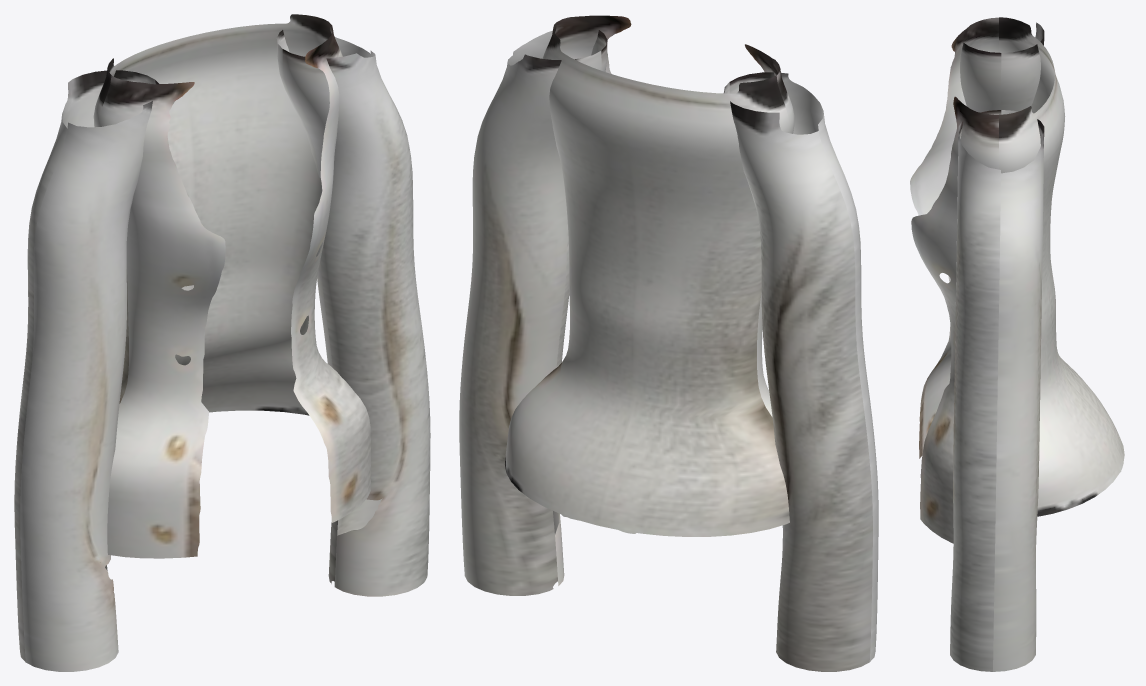
Rendered from prod-ae-ivory-tweed-blazer.glb.
The picture shows the model from 3 angles, left to right: view 1: azimuth 30°, elevation 25°; view 2: azimuth 150°, elevation 25°; view 3: azimuth 270°, elevation 25°; orthographic projection. The views are drawn at different scales.
Parts seen in each view (by area): view 1: prod-ae-ivory-tweed-blazer; view 2: prod-ae-ivory-tweed-blazer; view 3: prod-ae-ivory-tweed-blazer.
Boxes of the visible parts, left/top/right/bottom form: prod-ae-ivory-tweed-blazer: left=14, top=14, right=430, bottom=671; prod-ae-ivory-tweed-blazer: left=459, top=15, right=878, bottom=671; prod-ae-ivory-tweed-blazer: left=910, top=17, right=1124, bottom=671.
Bounding box in the file's own units: 0.4255 × 0.566 × 0.2227.
1 material, 1 textured.
